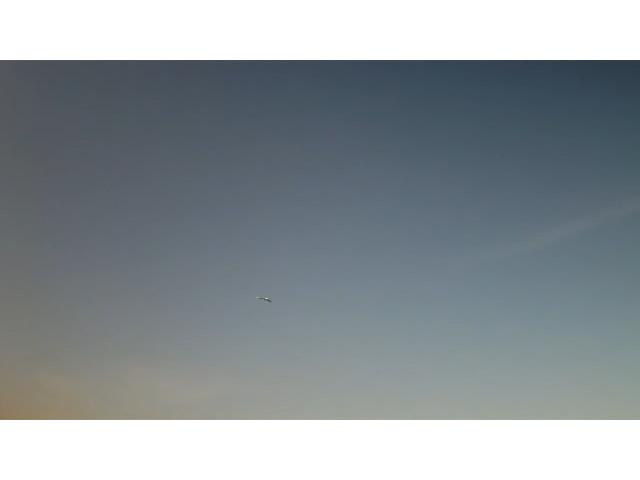Anti-Drone: (249, 292, 275, 308)
